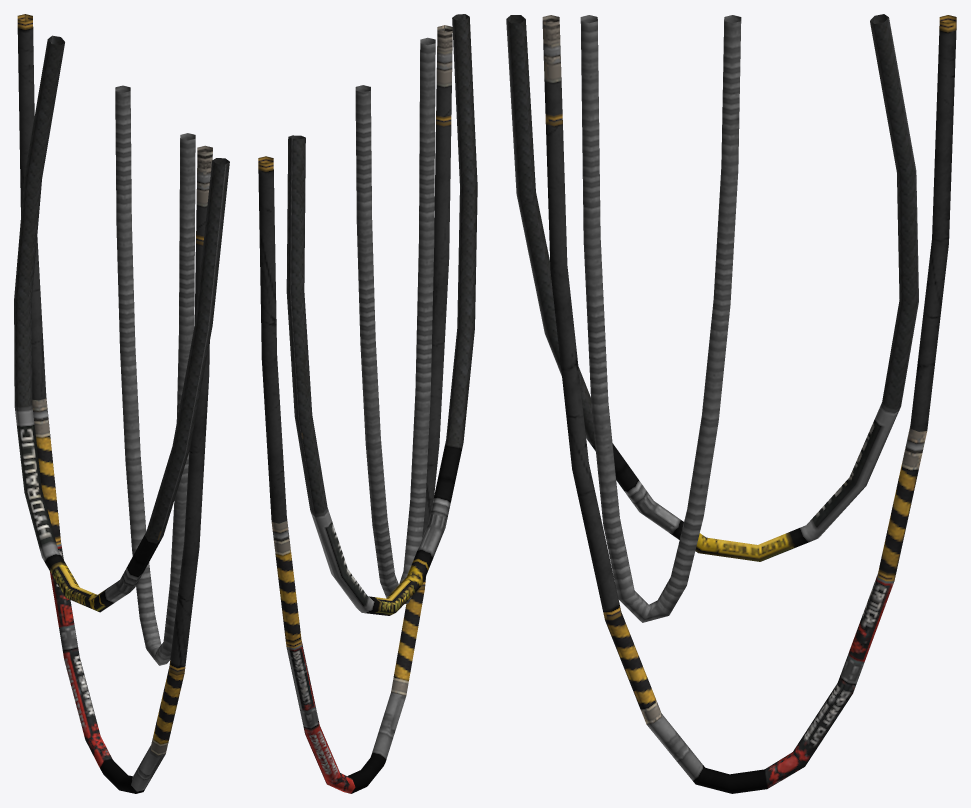
File: CP_Wires_1m_01.fbx
3 renders of one model, left to right at view 1: azimuth 30°, elevation 25°; view 2: azimuth 150°, elevation 25°; view 3: azimuth 270°, elevation 25°, orthographic. The views are drawn at different scales.
Visible parts, largest first — view 1: CP_Wires_1m_01_LOD0; view 2: CP_Wires_1m_01_LOD0; view 3: CP_Wires_1m_01_LOD0.
Boxes of the visible parts, x1,y1,x2,y2 form: CP_Wires_1m_01_LOD0: [14, 14, 229, 793]; CP_Wires_1m_01_LOD0: [258, 14, 477, 793]; CP_Wires_1m_01_LOD0: [506, 14, 956, 793].
Size of what is drawn, in the model's own units: 15.25 by 193 by 102.
